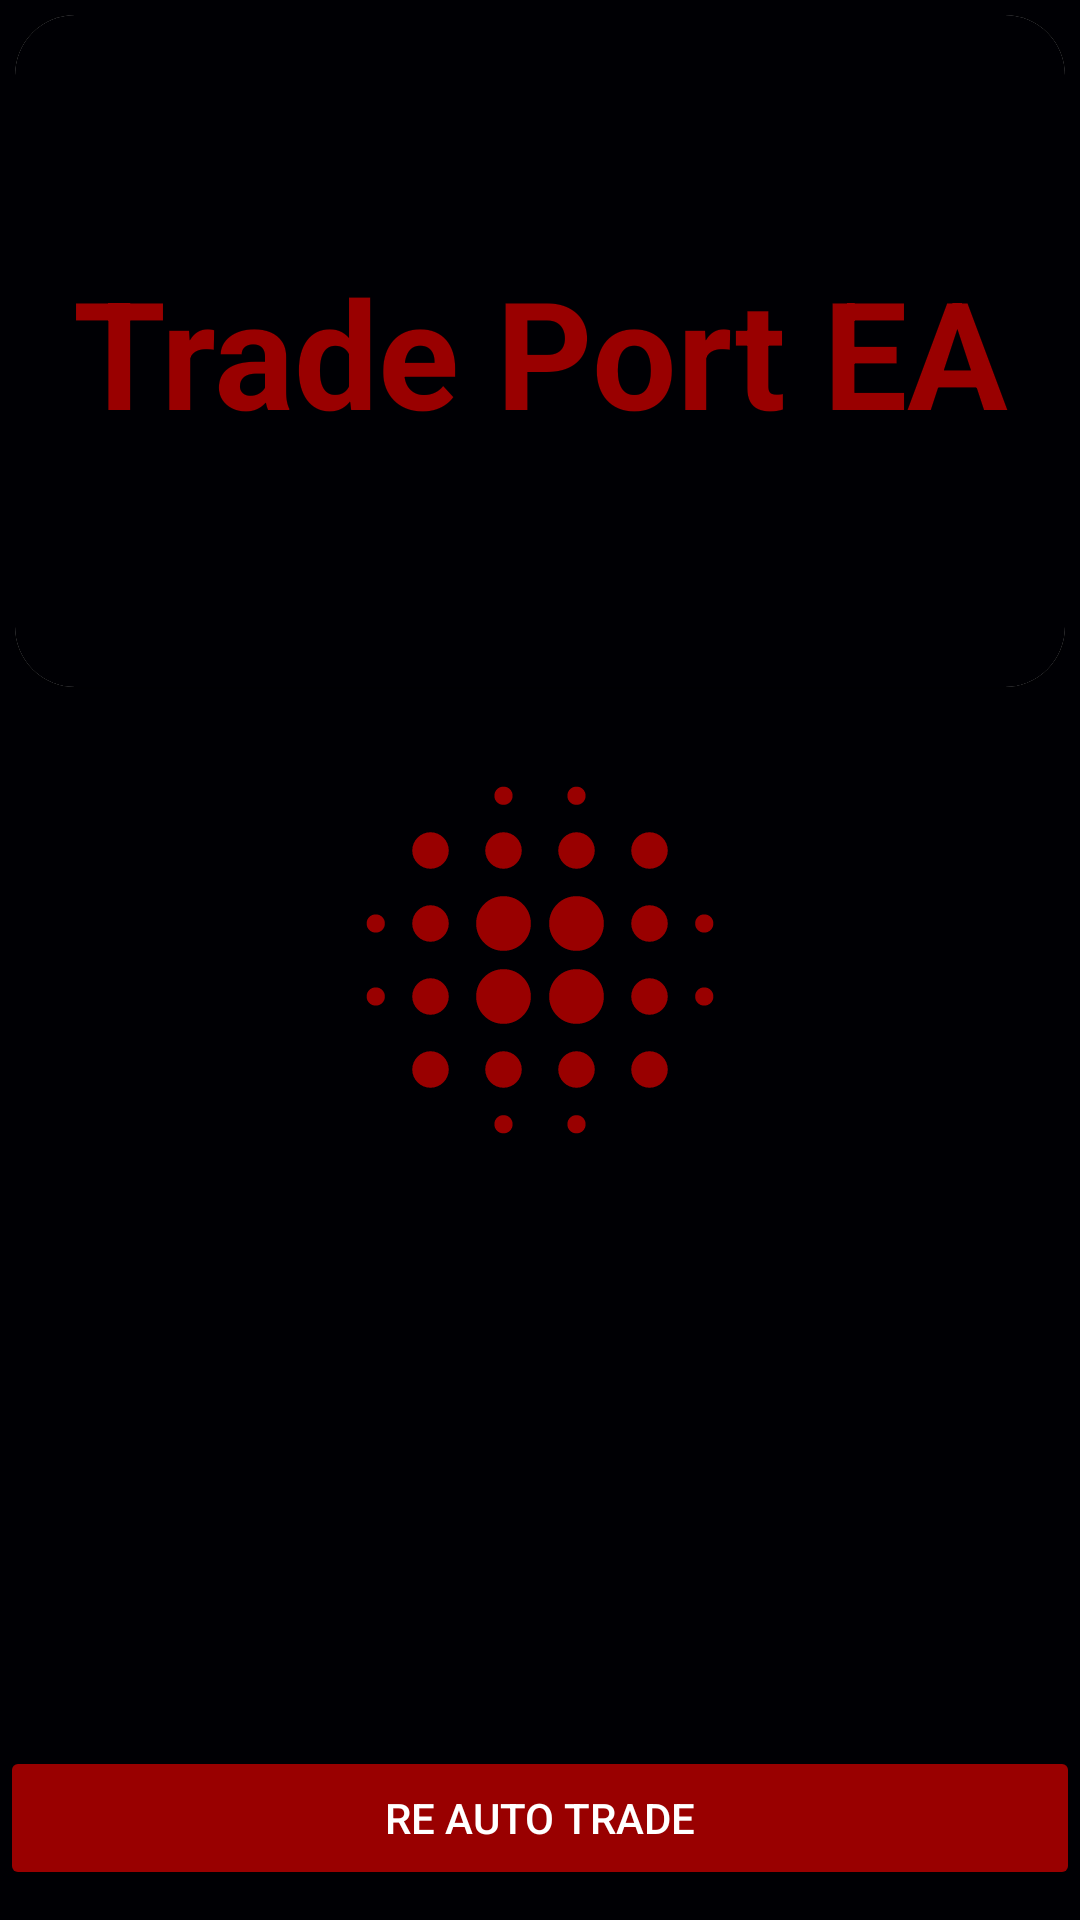

Icon bounding boxes for this 1080x1920 phone screenshot, format (x1, y1, x2, y2):
blur on: (366, 786, 714, 1134)
